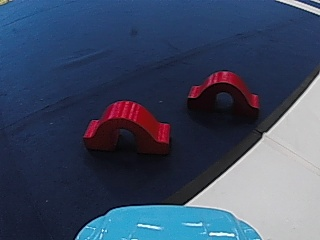bridge: (80, 96, 165, 154), (186, 66, 261, 119)
